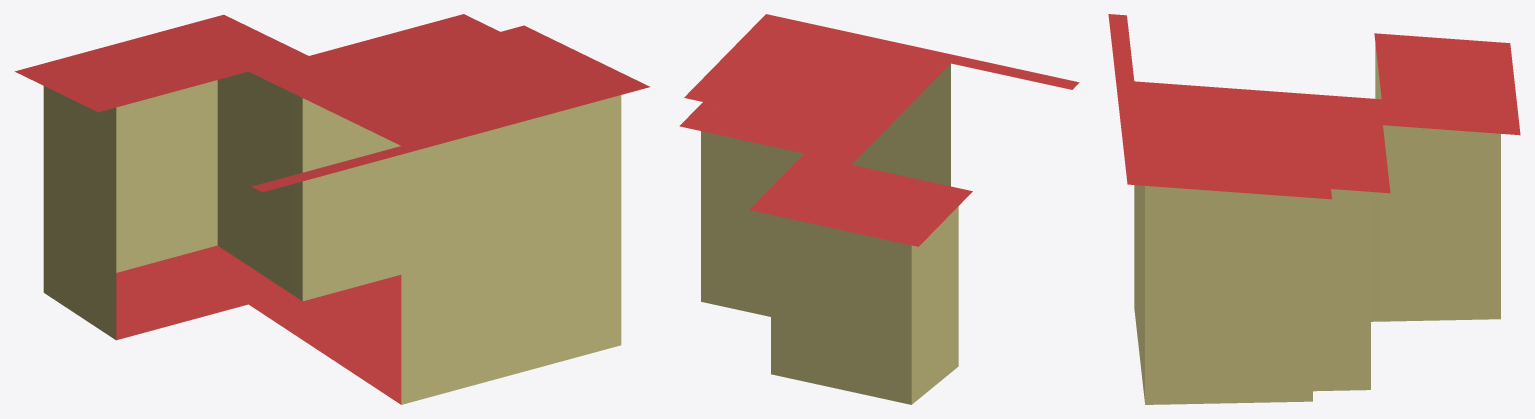
3 renders of one model, left to right at view 1: azimuth 30°, elevation 25°; view 2: azimuth 150°, elevation 25°; view 3: azimuth 270°, elevation 25°, orthographic. The views are drawn at different scales.
Bounding box in the file's own units: 11.39 × 11.1 × 6.8.
